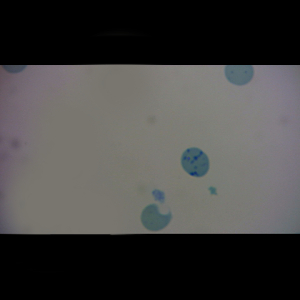aggregate reticulocyte: (180, 147, 211, 178)
erythrocyte: (140, 203, 174, 232)
punctate reticulocyte: (224, 65, 255, 86)
